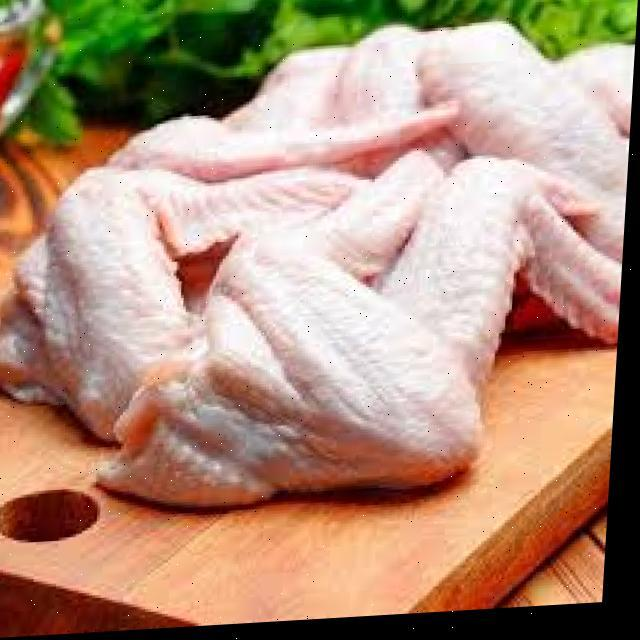wing: (147, 147, 632, 511), (14, 153, 343, 426), (424, 20, 632, 181), (159, 48, 383, 185)
